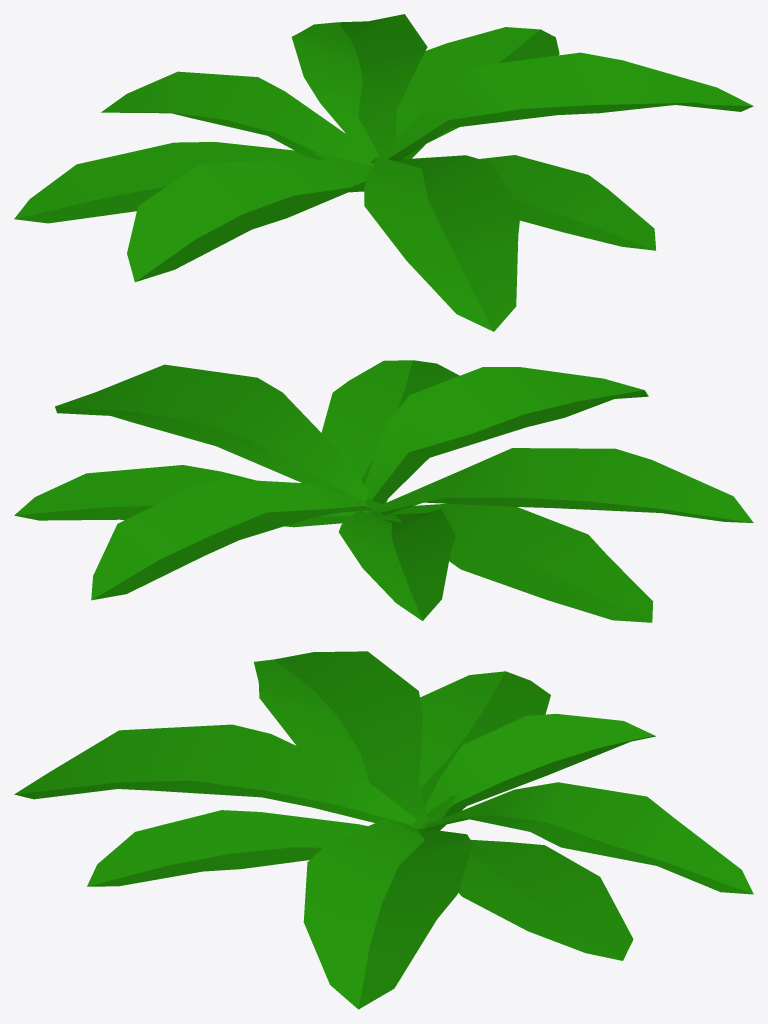
Rendered from Flat Grass 8 Ver3.fbx.
3 views of the same model, one above another, from view 1: azimuth 30°, elevation 25°; view 2: azimuth 150°, elevation 25°; view 3: azimuth 270°, elevation 25° (orthographic). The views are drawn at different scales.
Visible parts, largest first — view 1: Flat_Grass_8_Ver3; view 2: Flat_Grass_8_Ver3; view 3: Flat_Grass_8_Ver3.
Boxes of the visible parts, x1,y1,x2,y2 form: Flat_Grass_8_Ver3: (14,14,753,331); Flat_Grass_8_Ver3: (14,360,753,622); Flat_Grass_8_Ver3: (14,651,753,1009).
Size of the model in its own units: 0.9337 by 0.0791 by 0.8589.
